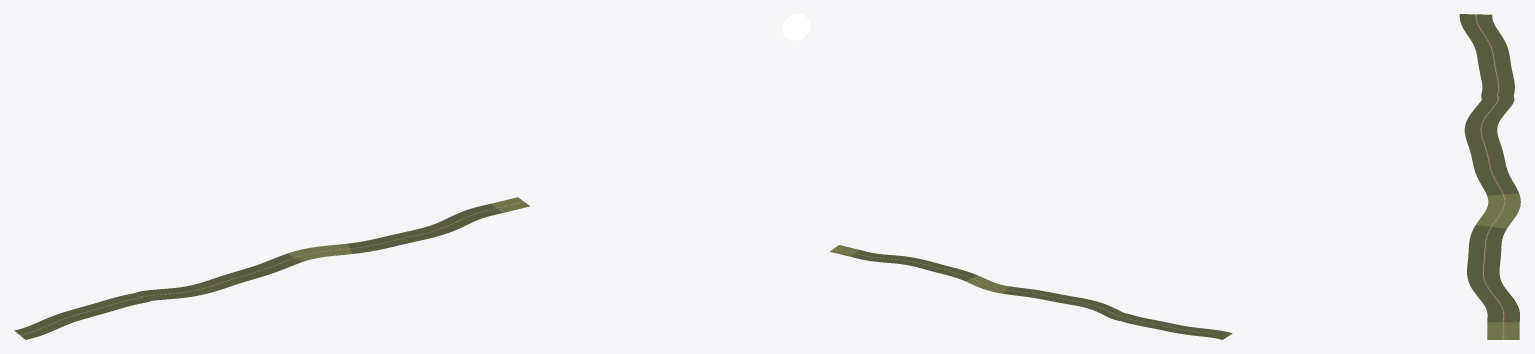
File: chichen.glb
3 views of the same model, side by side, from view 1: azimuth 30°, elevation 25°; view 2: azimuth 150°, elevation 25°; view 3: azimuth 270°, elevation 25° (orthographic). The views are drawn at different scales.
Parts seen in each view (by area): view 1: Land_002, Land_004, Land_000, Land_005, Land_001, Land_003, Land_006; view 2: Sun, Land_000, Land_005, Land_003, Land_002, Land_001, Land_004, Land_006; view 3: Land_003, Land_000, Land_001, Land_004, Land_005, Land_002, Land_006.
Part boxes in pixels (<box>): Land_002: <box>164,271,250,299</box>; Land_004: <box>309,235,402,257</box>; Land_000: <box>14,307,95,339</box>; Land_005: <box>391,213,475,244</box>; Land_001: <box>82,289,168,315</box>; Land_003: <box>236,248,317,279</box>; Land_006: <box>458,197,529,220</box>; Sun: <box>782,14,810,40</box>; Land_000: <box>1162,323,1232,339</box>; Land_005: <box>877,254,945,272</box>; Land_003: <box>987,283,1056,300</box>; Land_002: <box>1050,293,1116,314</box>; Land_001: <box>1103,309,1169,329</box>; Land_004: <box>936,265,996,289</box>; Land_006: <box>830,245,881,261</box>; Land_003: <box>1472,157,1520,207</box>; Land_000: <box>1459,14,1510,62</box>; Land_001: <box>1475,62,1514,112</box>; Land_004: <box>1468,206,1519,254</box>; Land_005: <box>1467,254,1514,304</box>; Land_002: <box>1464,108,1505,158</box>; Land_006: <box>1484,300,1519,339</box>.
Size of the model in its own units: 16529 by 5142 by 4310.
